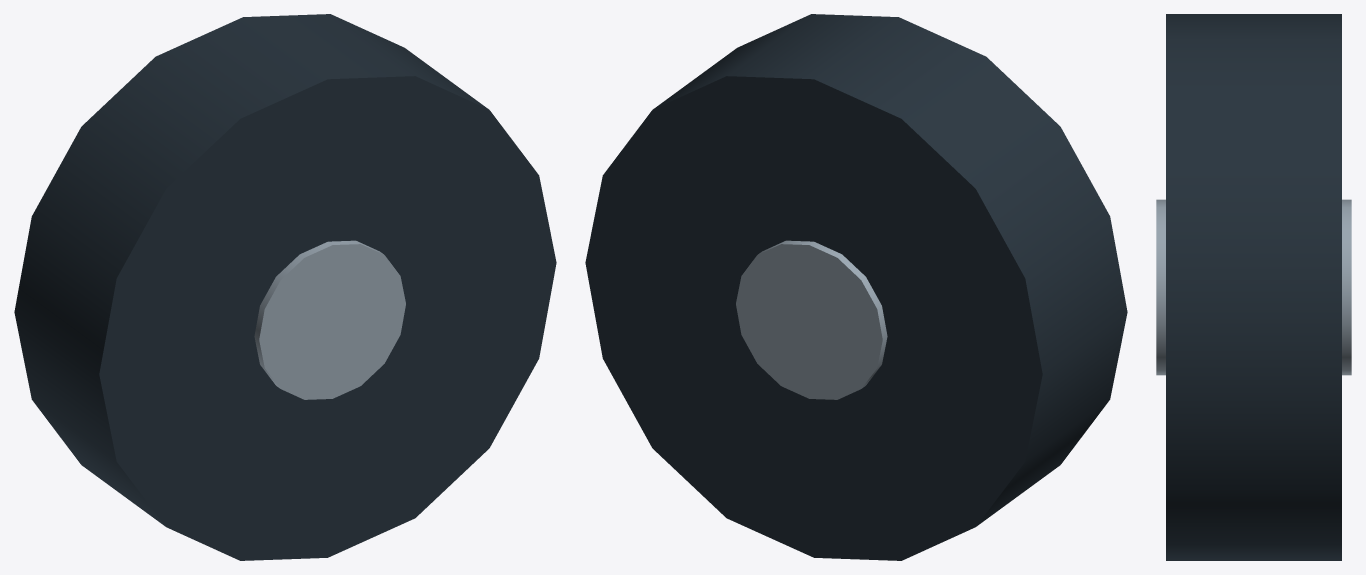
The picture shows the model from 3 angles, left to right: view 1: azimuth 30°, elevation 25°; view 2: azimuth 150°, elevation 25°; view 3: azimuth 270°, elevation 25°; orthographic projection. The views are drawn at different scales.
Parts seen in each view (by area): view 1: RGV导向轮; view 2: RGV导向轮; view 3: RGV导向轮.
Boxes of the visible parts, x1,y1,x2,y2 form: RGV导向轮: (14, 14, 556, 560); RGV导向轮: (585, 14, 1127, 560); RGV导向轮: (1156, 14, 1351, 560).
Size of the model in its own units: 0.56 by 0.56 by 0.2.
